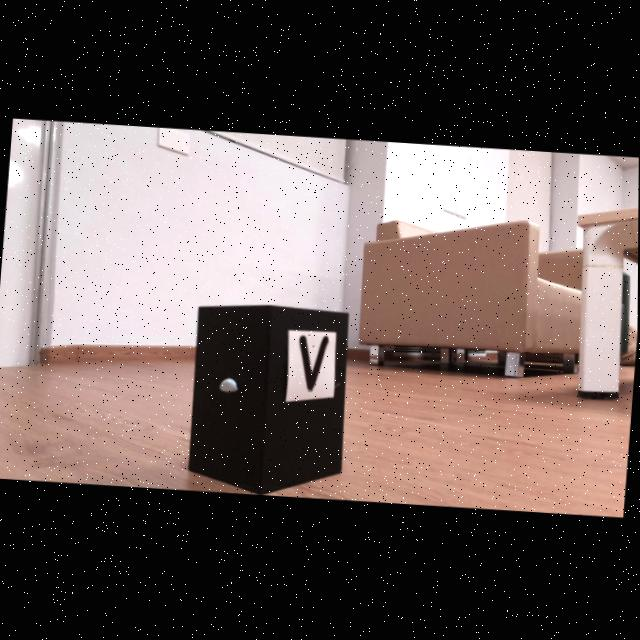V: (299, 336, 329, 391)
